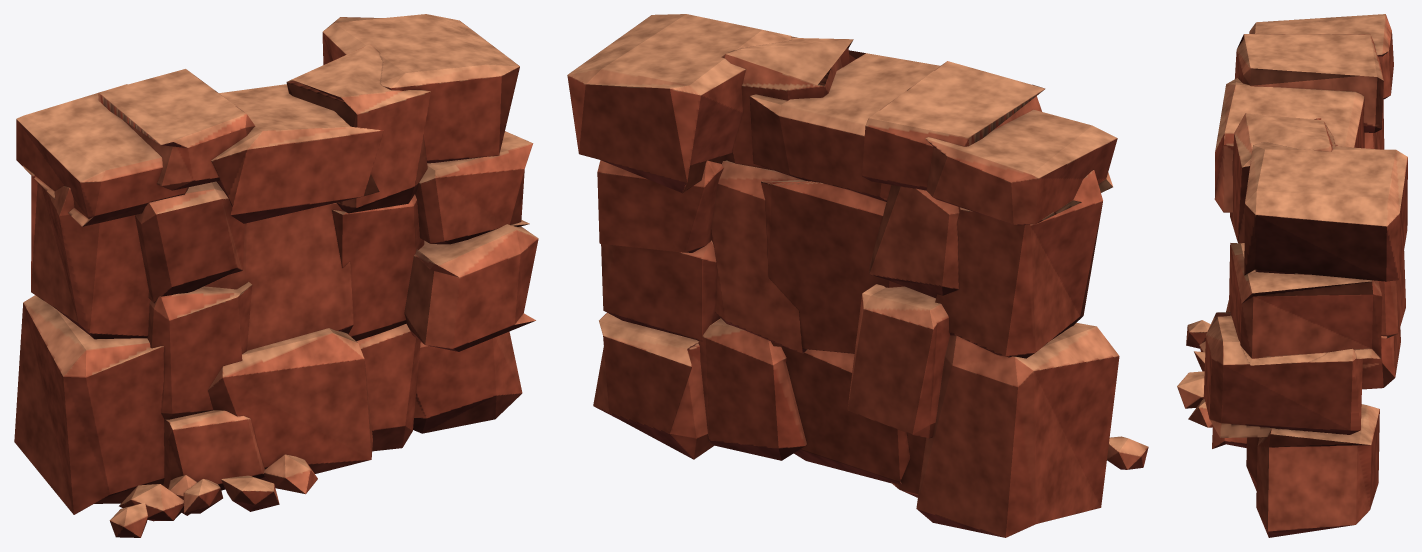
Rendered from Env_CliffRed_1.glb.
3 renders of one model, left to right at view 1: azimuth 30°, elevation 25°; view 2: azimuth 150°, elevation 25°; view 3: azimuth 270°, elevation 25°, orthographic. The views are drawn at different scales.
Visible parts, largest first — view 1: Env_CliffRed_1.001; view 2: Env_CliffRed_1.001; view 3: Env_CliffRed_1.001.
Boxes of the visible parts, <box> form: Env_CliffRed_1.001: <box>14,14,538,537</box>; Env_CliffRed_1.001: <box>567,14,1148,537</box>; Env_CliffRed_1.001: <box>1177,14,1407,537</box>.
Size of the model in its own units: 12 by 9.49 by 5.57.
1 material, 1 textured.
